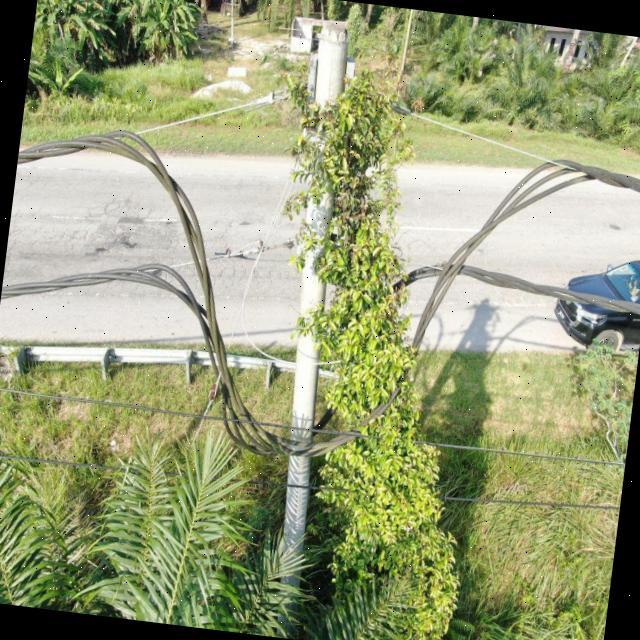critical vegetation: (218, 59, 523, 640)
